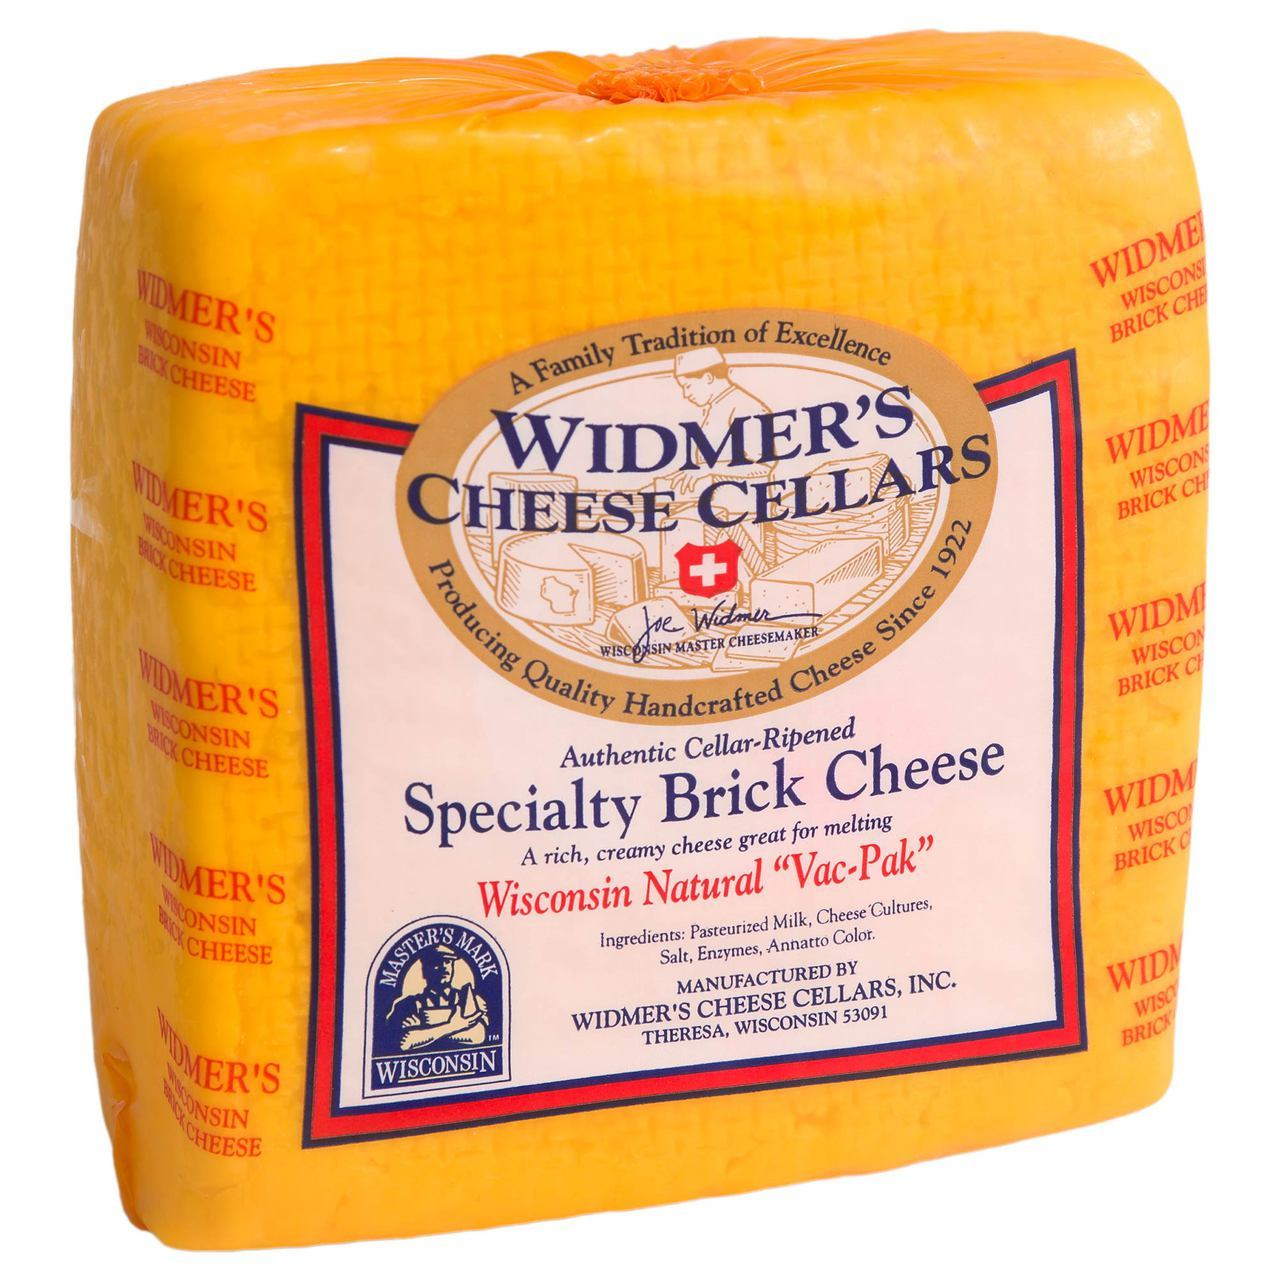cheese: (66, 75, 1205, 1152)
